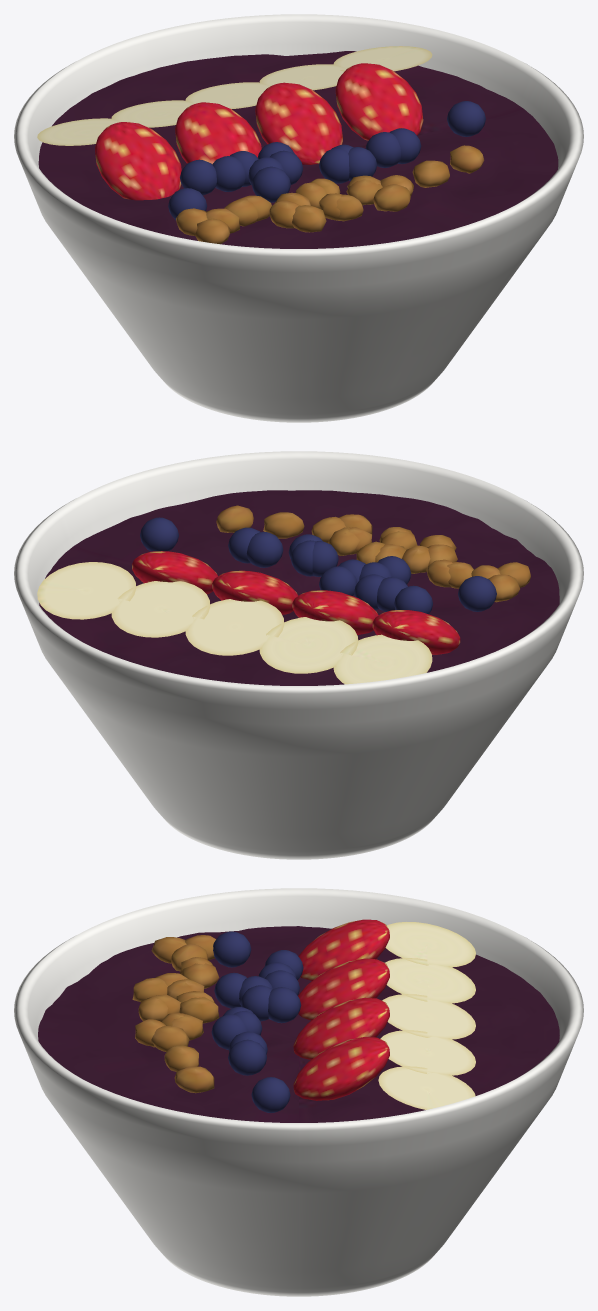
File: classic-acai-bowl.glb
3 renders of one model, top to bottom at view 1: azimuth 30°, elevation 25°; view 2: azimuth 150°, elevation 25°; view 3: azimuth 270°, elevation 25°, orthographic.
Visible parts, largest first — view 1: ceramic, satin, gloss, matte; view 2: ceramic, satin, gloss, matte; view 3: ceramic, satin, gloss, matte.
Part boxes in pixels (<box>): ceramic: <box>14,14,583,422</box>; satin: <box>37,46,558,248</box>; gloss: <box>95,63,423,200</box>; matte: <box>176,145,484,243</box>; ceramic: <box>14,451,583,859</box>; satin: <box>37,490,559,685</box>; gloss: <box>132,551,460,654</box>; matte: <box>216,505,530,602</box>; ceramic: <box>14,888,583,1296</box>; satin: <box>38,922,559,1122</box>; gloss: <box>293,919,389,1100</box>; matte: <box>132,935,219,1093</box>.
Size of the model in its own units: 0.16 by 0.0756 by 0.16.
Materials: 4 (4 with a texture image).
